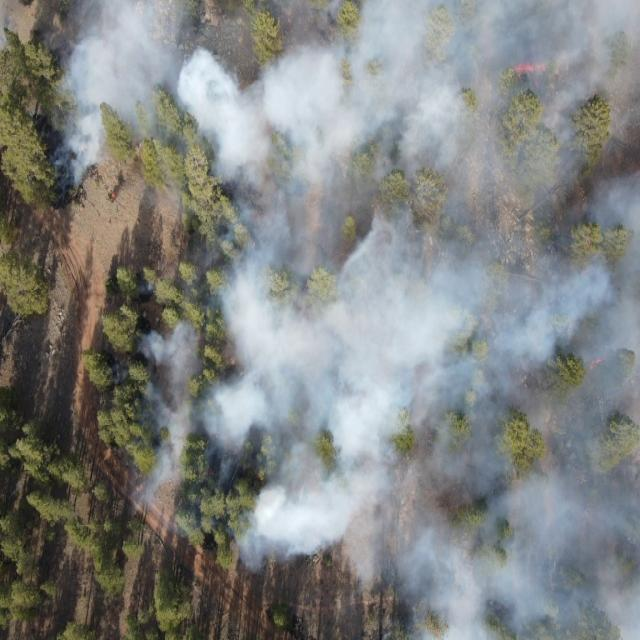fire: (513, 60, 550, 74), (584, 230, 594, 254), (588, 356, 605, 370), (109, 191, 119, 201)
smoke: (52, 0, 640, 202), (395, 202, 640, 640), (220, 202, 395, 586), (132, 325, 196, 515), (186, 202, 221, 316), (197, 378, 221, 458), (162, 516, 220, 542), (132, 278, 152, 296)
